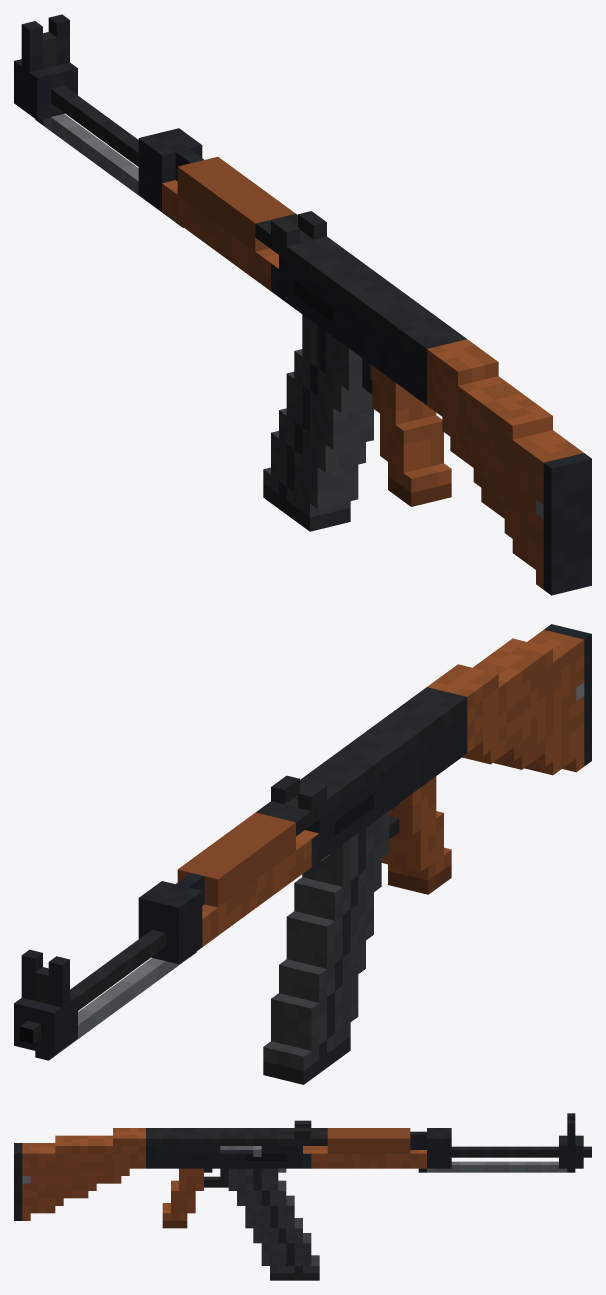
3 views of the same model, one above another, from view 1: azimuth 30°, elevation 25°; view 2: azimuth 150°, elevation 25°; view 3: azimuth 270°, elevation 25° (orthographic). The views are drawn at different scales.
Parts seen in each view (by area): view 1: wpn__ak47__body, wpn__ak47__mag; view 2: wpn__ak47__body, wpn__ak47__mag; view 3: wpn__ak47__body, wpn__ak47__mag.
Part boxes in pixels (left/top/right/bottom): wpn__ak47__body: left=14, top=14, right=591, bottom=595; wpn__ak47__mag: left=263, top=314, right=373, bottom=531; wpn__ak47__body: left=14, top=624, right=591, bottom=1060; wpn__ak47__mag: left=263, top=811, right=389, bottom=1084; wpn__ak47__body: left=14, top=1113, right=591, bottom=1228; wpn__ak47__mag: left=228, top=1168, right=319, bottom=1280.
Bounding box in the file's own units: 0.05 × 0.2625 × 0.875.
